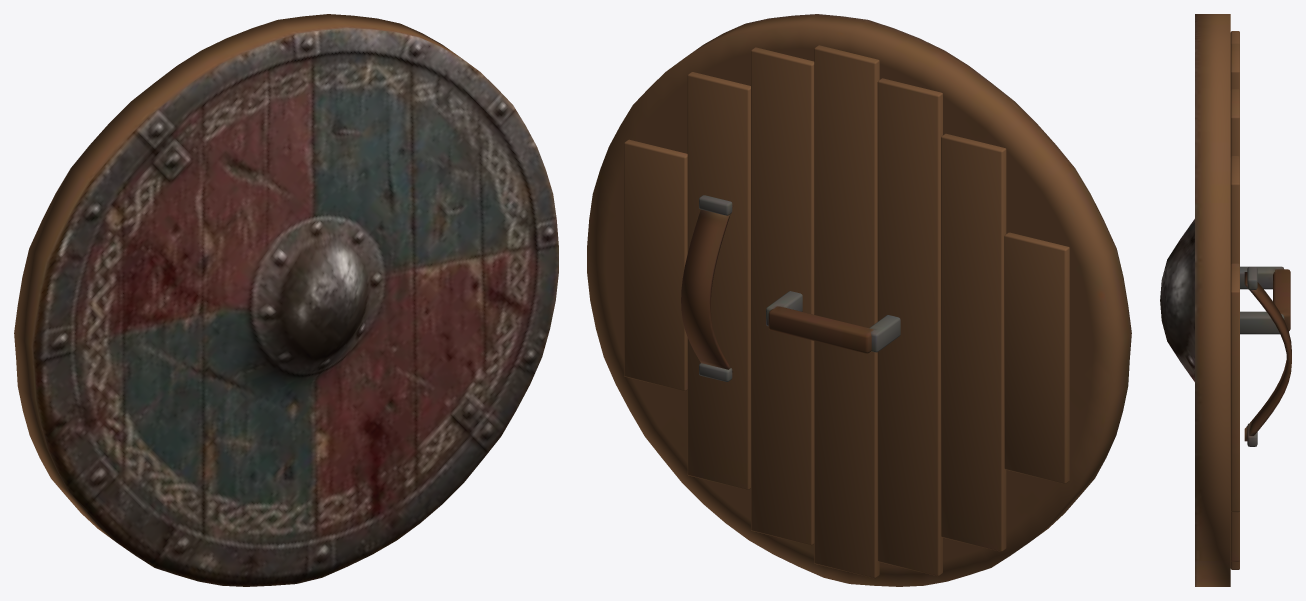
File: shieldmaiden-crafted.glb
The picture shows the model from 3 angles, left to right: view 1: azimuth 30°, elevation 25°; view 2: azimuth 150°, elevation 25°; view 3: azimuth 270°, elevation 25°; orthographic projection. The views are drawn at different scales.
Visible parts, largest first — view 1: shieldmaiden-crafted; view 2: shieldmaiden-crafted; view 3: shieldmaiden-crafted.
Boxes of the visible parts, x1,y1,x2,y2 form: shieldmaiden-crafted: (14,14,558,586); shieldmaiden-crafted: (587,14,1131,586); shieldmaiden-crafted: (1160,14,1291,586).
Size of the model in its own units: 0.7 by 0.7 by 0.1613.
1 material, 1 textured.
